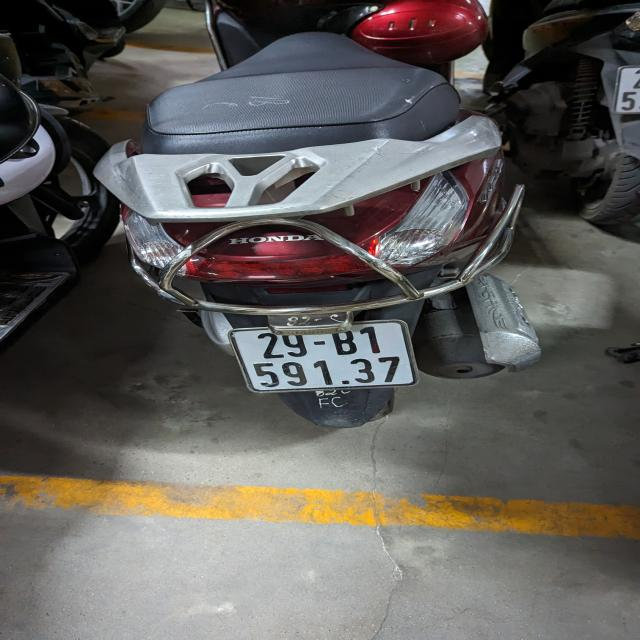License: (227, 320, 419, 394)
